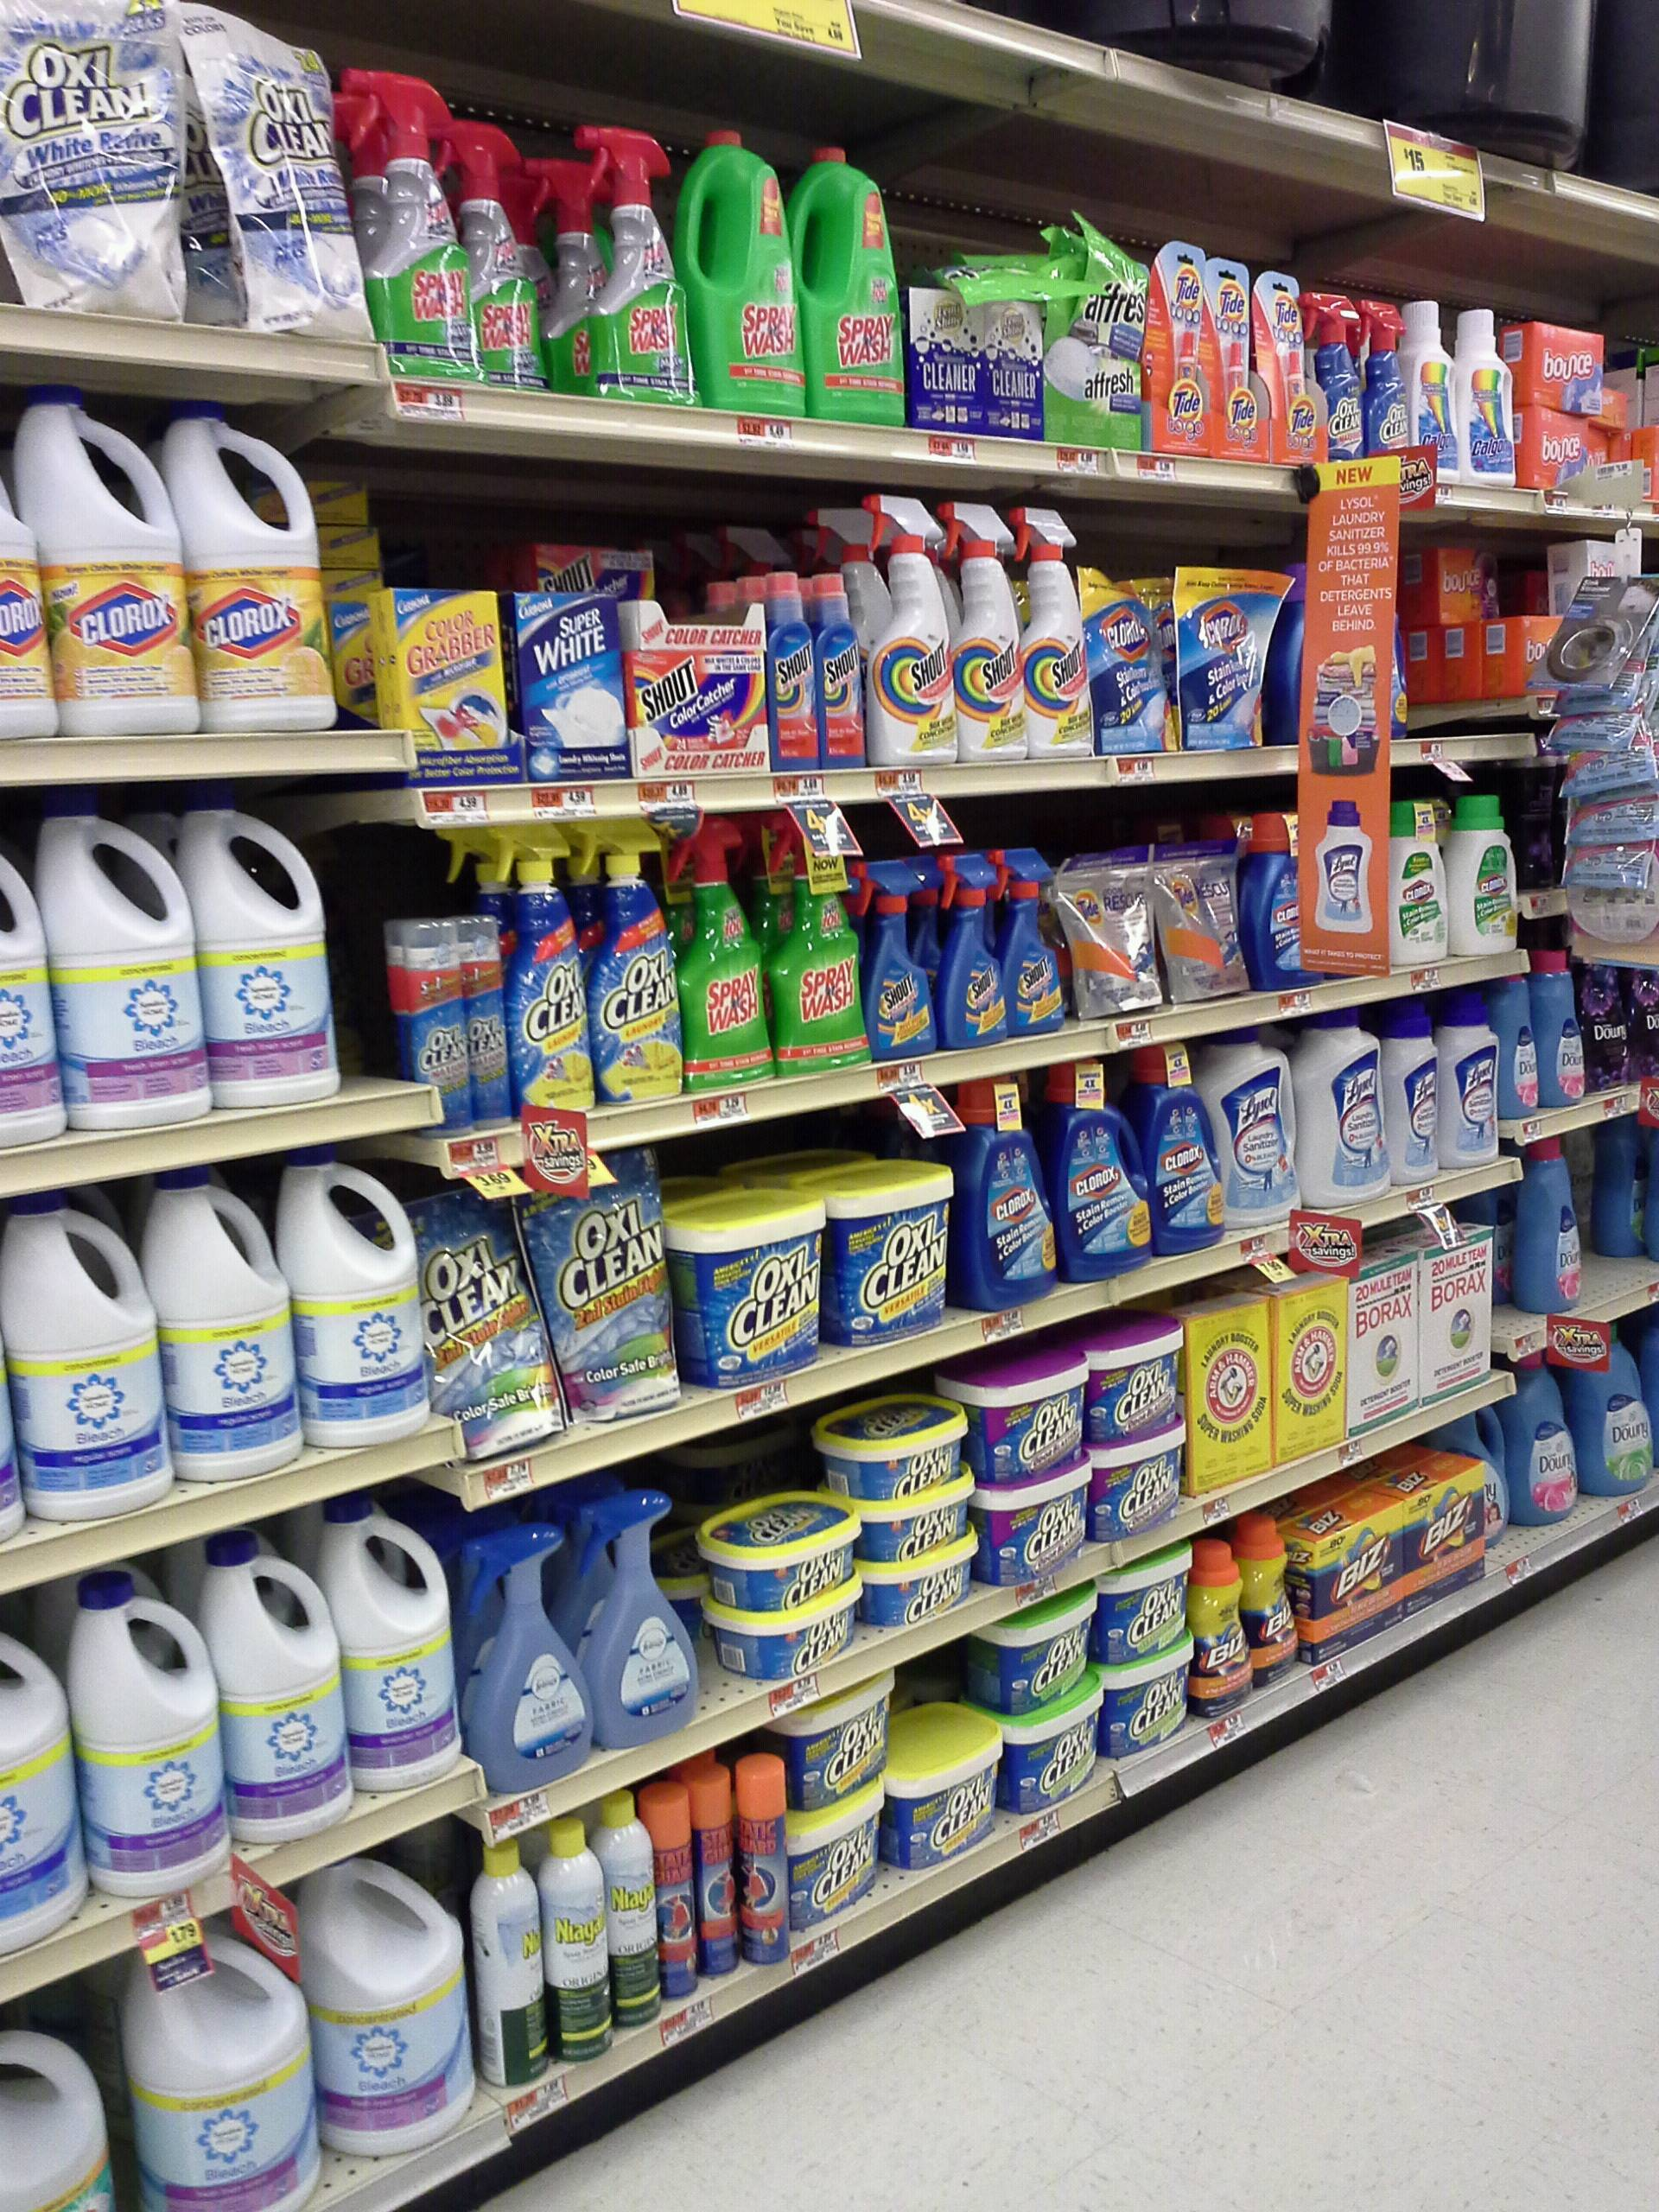Misplacement: (692, 1433, 866, 1683), (880, 1667, 1006, 1879)
